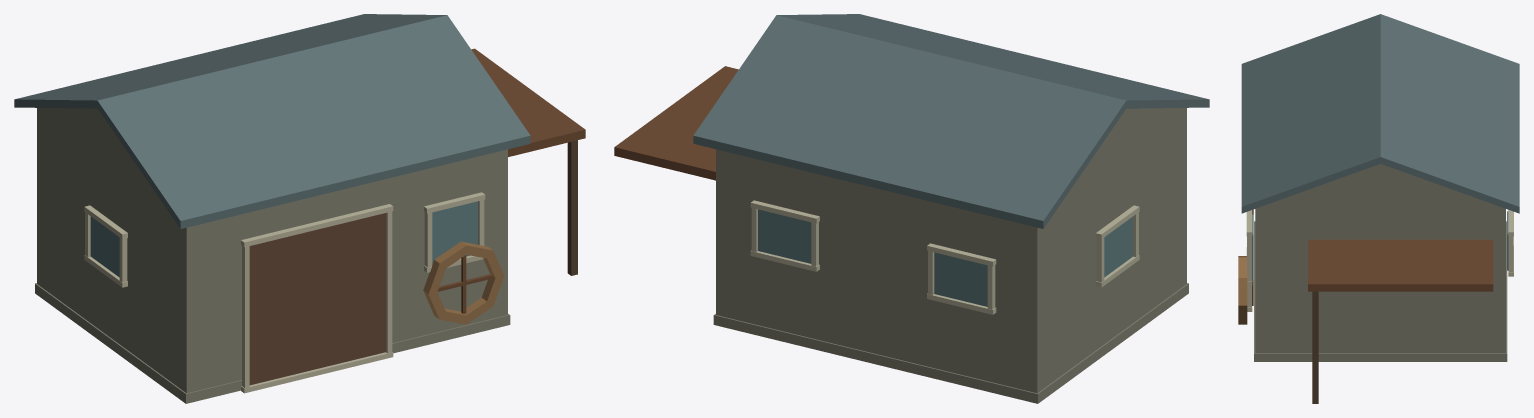
The model's file is Building_Settlement_CartwrightWorkshop_001_LOD1.glb.
3 views of the same model, side by side, from view 1: azimuth 30°, elevation 25°; view 2: azimuth 150°, elevation 25°; view 3: azimuth 270°, elevation 25° (orthographic). The views are drawn at different scales.
Visible parts, largest first — view 1: Building_Settlement_CartwrightWorkshop_001_LOD1; view 2: Building_Settlement_CartwrightWorkshop_001_LOD1; view 3: Building_Settlement_CartwrightWorkshop_001_LOD1.
Part boxes in pixels (x1,y1,x2,y2): Building_Settlement_CartwrightWorkshop_001_LOD1: [14, 14, 585, 403]; Building_Settlement_CartwrightWorkshop_001_LOD1: [614, 14, 1209, 403]; Building_Settlement_CartwrightWorkshop_001_LOD1: [1238, 14, 1519, 403].
Bounding box in the file's own units: 8.57 × 4.63 × 5.62.
